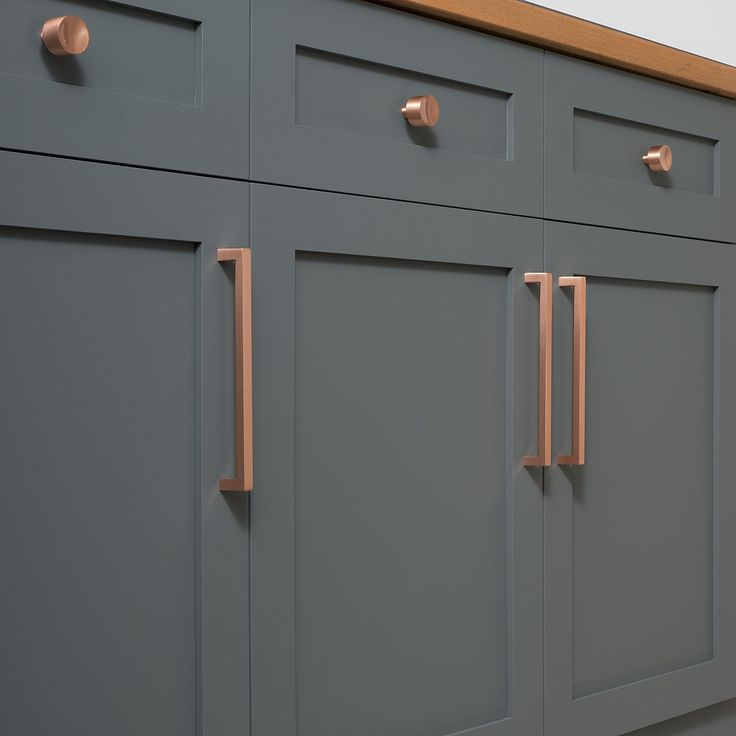cabinet door: (254, 192, 553, 736), (1, 141, 251, 736), (549, 236, 736, 724), (251, 2, 546, 210), (0, 5, 249, 172), (545, 53, 736, 237)
handle: (217, 243, 262, 503), (553, 271, 589, 474), (524, 265, 557, 477), (35, 12, 96, 68), (399, 87, 442, 133), (639, 133, 676, 183)
